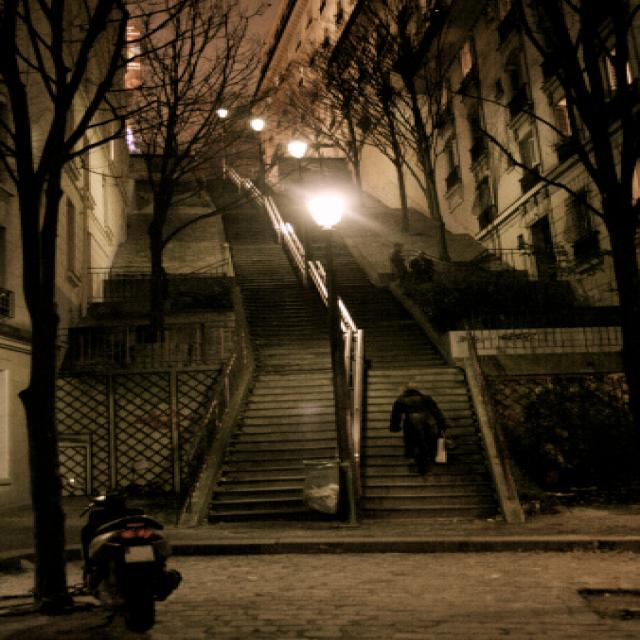Motorbike: (66, 477, 195, 640)
People: (386, 367, 490, 486), (392, 236, 469, 293)
